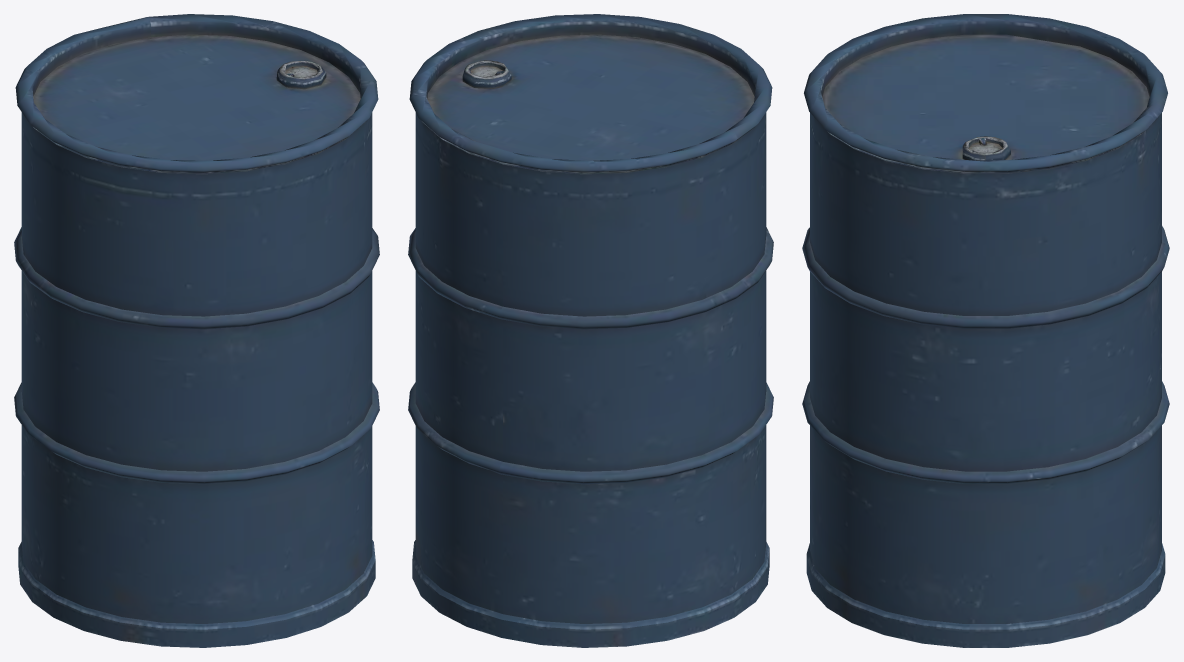
Rendered from barrel_03.glb.
The picture shows the model from 3 angles, left to right: view 1: azimuth 30°, elevation 25°; view 2: azimuth 150°, elevation 25°; view 3: azimuth 270°, elevation 25°; orthographic projection.
Visible parts, largest first — view 1: barrel_03; view 2: barrel_03; view 3: barrel_03.
Boxes of the visible parts, x1,y1,x2,y2 form: barrel_03: (14,14,379,647); barrel_03: (408,14,773,647); barrel_03: (802,14,1169,647).
Bounding box in the file's own units: 0.6339 × 0.9305 × 0.6386.
Materials: 1 (1 with a texture image).
